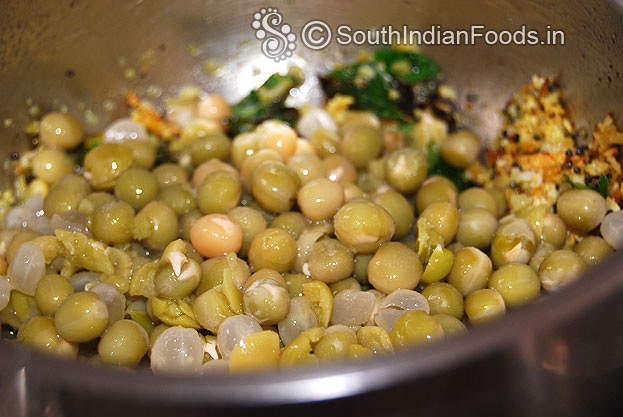boiled peas: (33, 121, 556, 351)
